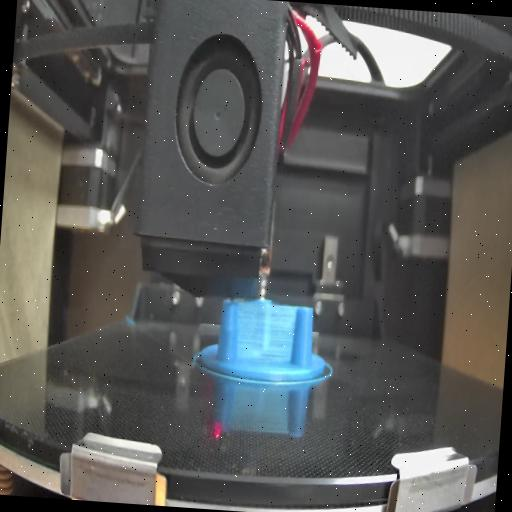stringing: (238, 302, 297, 364)
